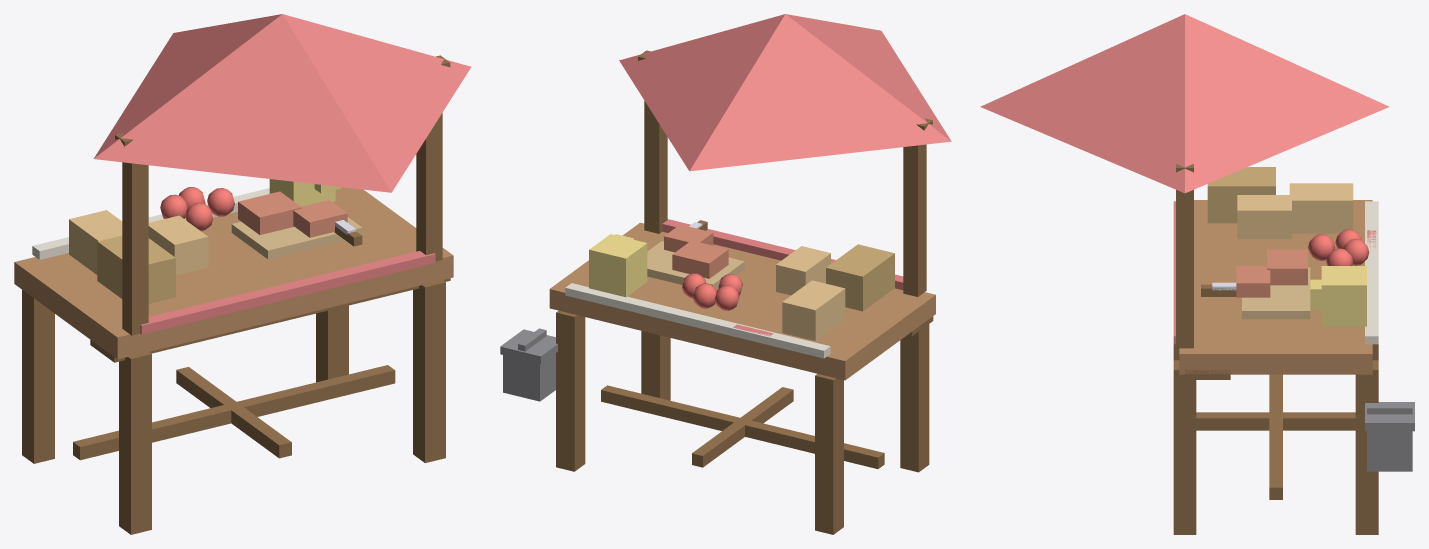
File: cooking_station.glb
3 renders of one model, left to right at view 1: azimuth 30°, elevation 25°; view 2: azimuth 150°, elevation 25°; view 3: azimuth 270°, elevation 25°, orthographic. The views are drawn at different scales.
Visible parts, largest first — view 1: cooking_station_root; view 2: cooking_station_root; view 3: cooking_station_root.
Part boxes in pixels (bbox=[...]): cooking_station_root: bbox=[14, 14, 471, 534]; cooking_station_root: bbox=[500, 14, 951, 534]; cooking_station_root: bbox=[980, 14, 1414, 534].
Bounding box in the file's own units: 1.71 × 2 × 1.76.
